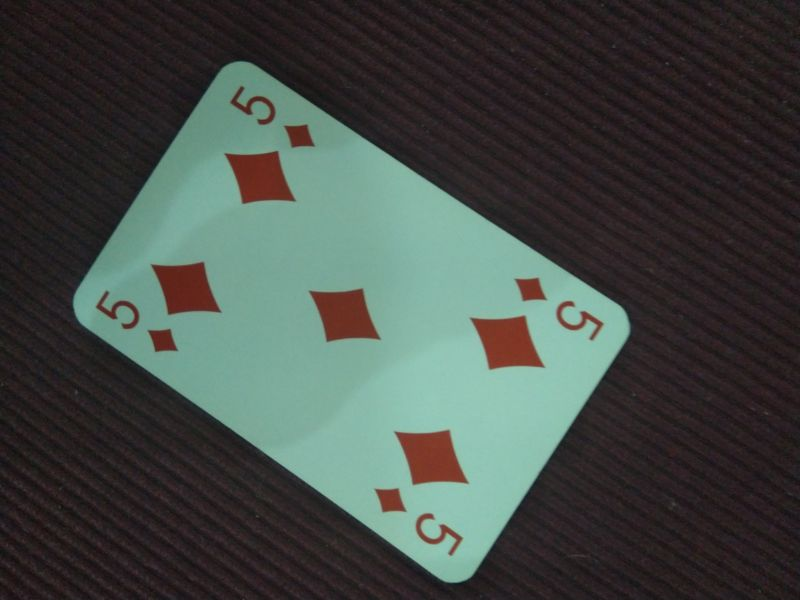5d: (371, 483, 466, 558), (226, 80, 318, 153), (511, 272, 604, 343), (93, 285, 183, 356)
